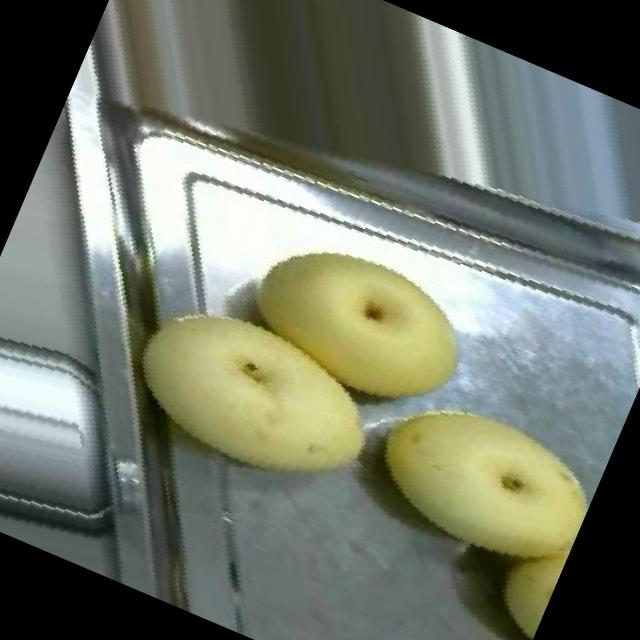Fruit: (86, 262, 416, 543), (214, 198, 506, 450), (332, 354, 615, 610)
